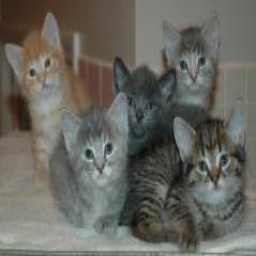cat: (14, 6, 250, 248)
